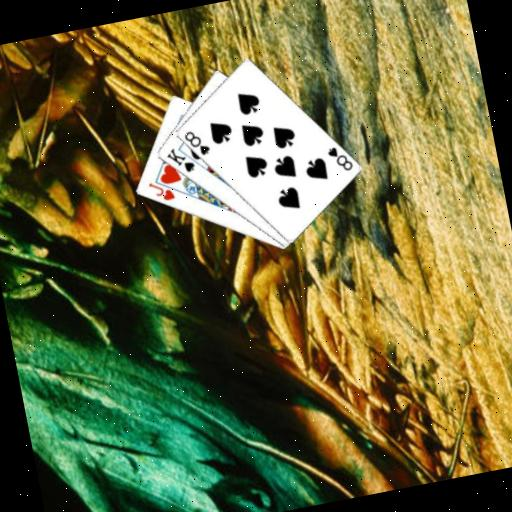8S: (180, 126, 213, 161), (324, 141, 356, 176)
JH: (144, 176, 177, 206)
KS: (162, 142, 198, 178)
